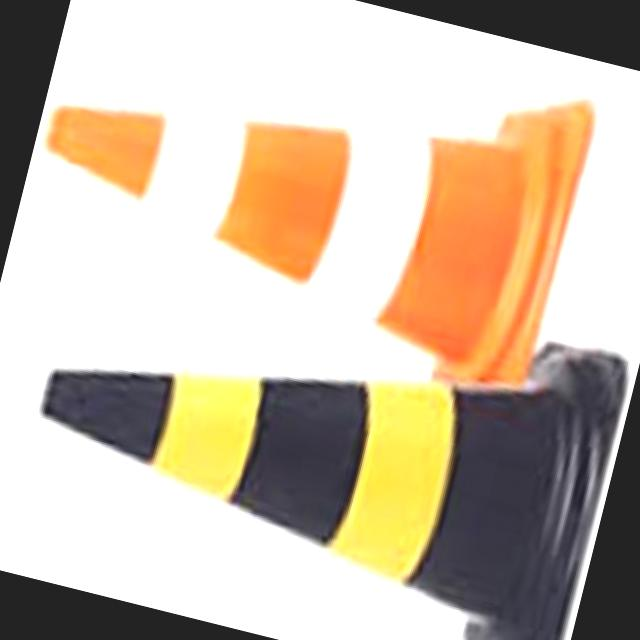cone: (0, 193, 625, 640), (20, 0, 597, 384)
